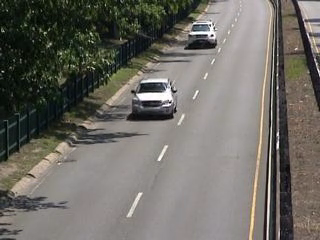car: (129, 74, 186, 120), (185, 19, 219, 48)
